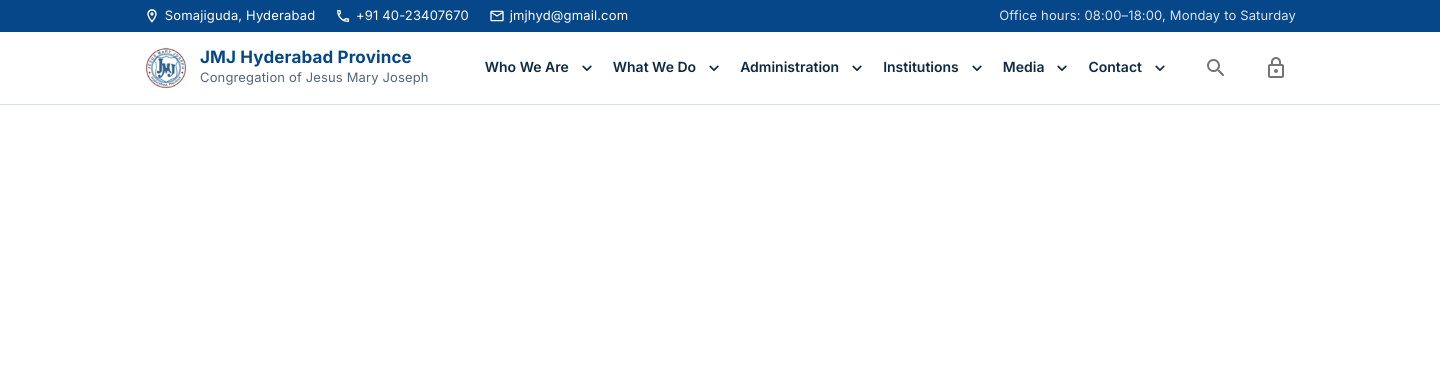
it: SiteHeader › opens a submenu and exposes its items
Click the button "Who We Are" at (539, 68), box [475, 46, 603, 90]
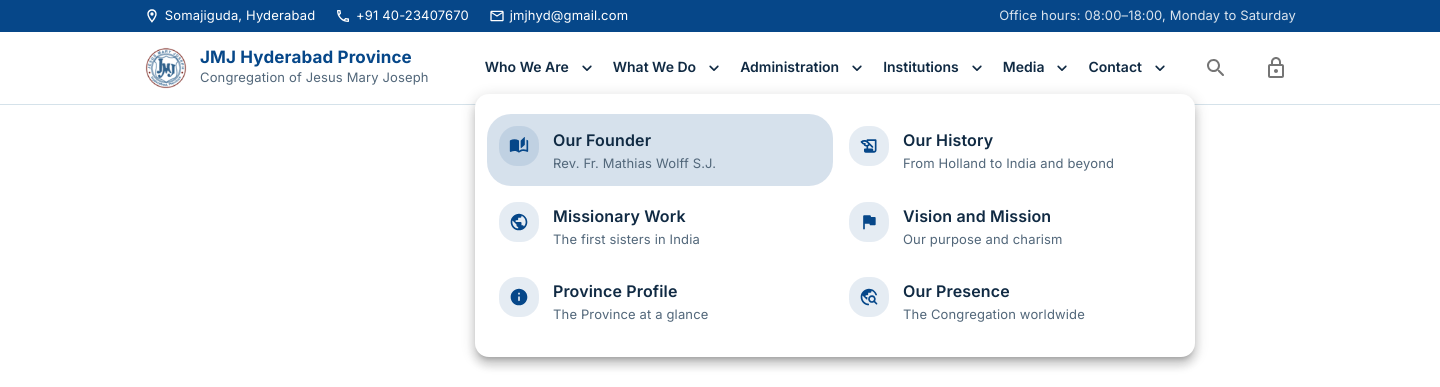
Expected: the menu item "Our Founder Rev. Fr. Mathias Wolff S.J." is shown, [487, 114, 833, 186]
